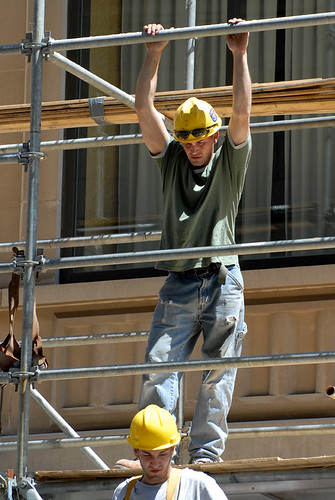person hardhat: (132, 23, 249, 470), (118, 403, 233, 500)
